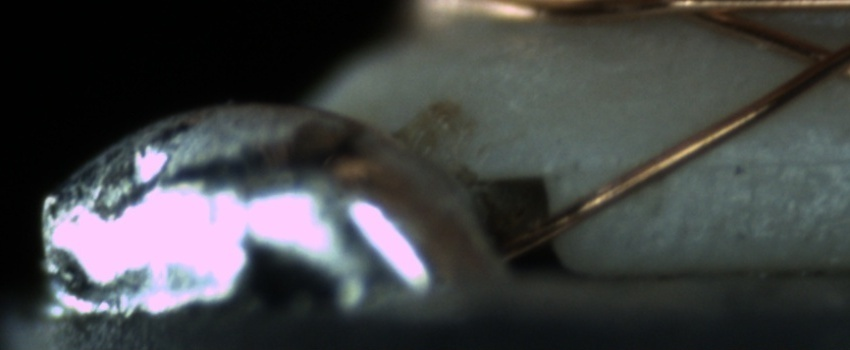CL: (785, 31, 846, 88)
DL: (687, 126, 850, 192)
